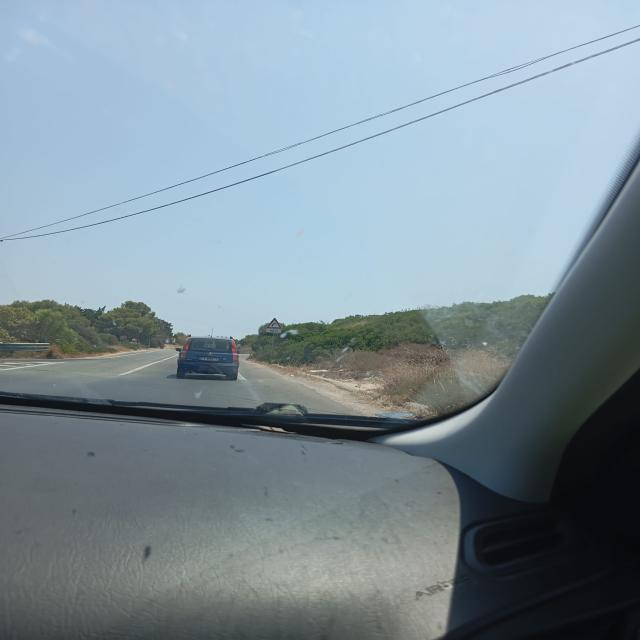warn_right_curve: (266, 318, 283, 329)
